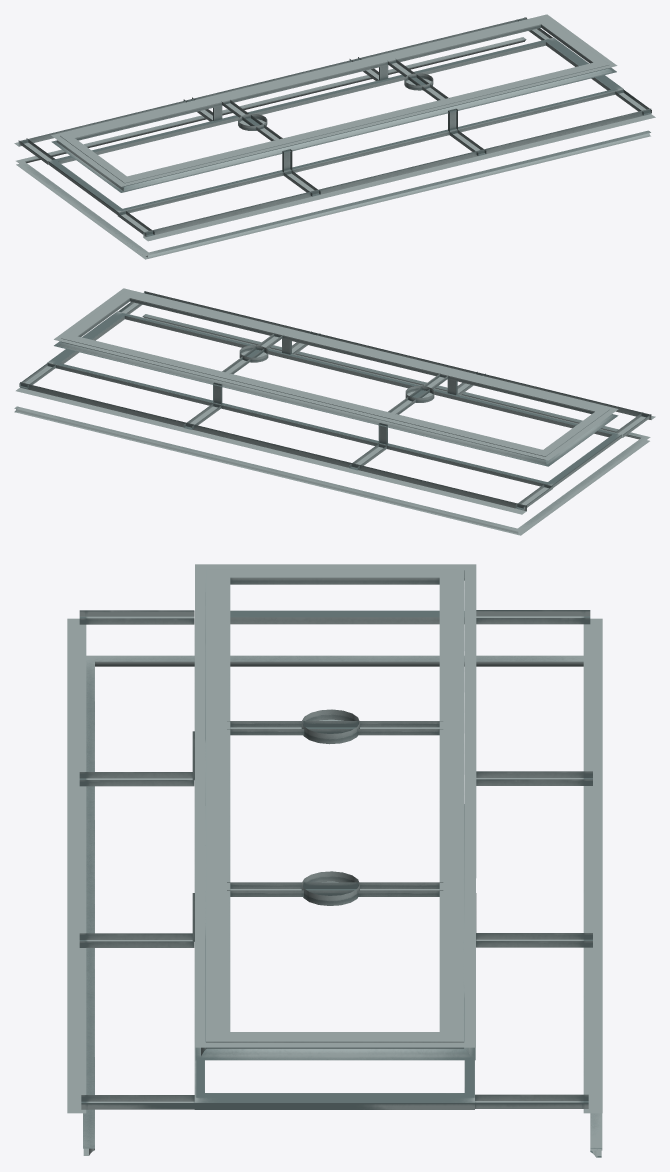
The model's file is SM_Home_Molding.fbx.
3 views of the same model, one above another, from view 1: azimuth 30°, elevation 25°; view 2: azimuth 150°, elevation 25°; view 3: azimuth 270°, elevation 25° (orthographic). The views are drawn at different scales.
Parts seen in each view (by area): view 1: SM_Home_Molding; view 2: SM_Home_Molding; view 3: SM_Home_Molding.
Boxes of the visible parts, bbox=[...] form: SM_Home_Molding: bbox=[14, 14, 655, 259]; SM_Home_Molding: bbox=[14, 288, 655, 535]; SM_Home_Molding: bbox=[67, 564, 602, 1157].
Size of the model in its own units: 719 by 328 by 71.7.
1 material, 1 textured.
